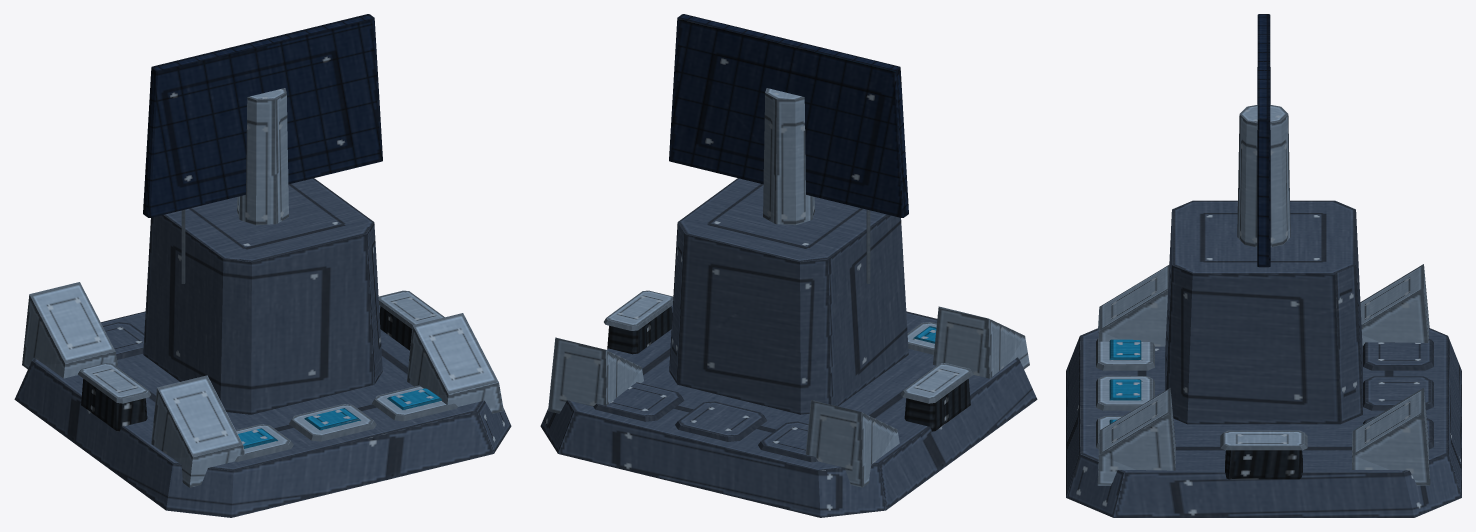
File: building-counter_radar.fbx
The picture shows the model from 3 angles, left to right: view 1: azimuth 30°, elevation 25°; view 2: azimuth 150°, elevation 25°; view 3: azimuth 270°, elevation 25°; orthographic projection.
Visible parts, largest first — view 1: building-counter_radar; view 2: building-counter_radar; view 3: building-counter_radar.
Boxes of the visible parts, left/top/right/bottom form: building-counter_radar: left=14, top=14, right=511, bottom=517; building-counter_radar: left=540, top=14, right=1037, bottom=517; building-counter_radar: left=1066, top=14, right=1461, bottom=517.
Size of the model in its own units: 1456 by 1491 by 1456.
1 material, 1 textured.
